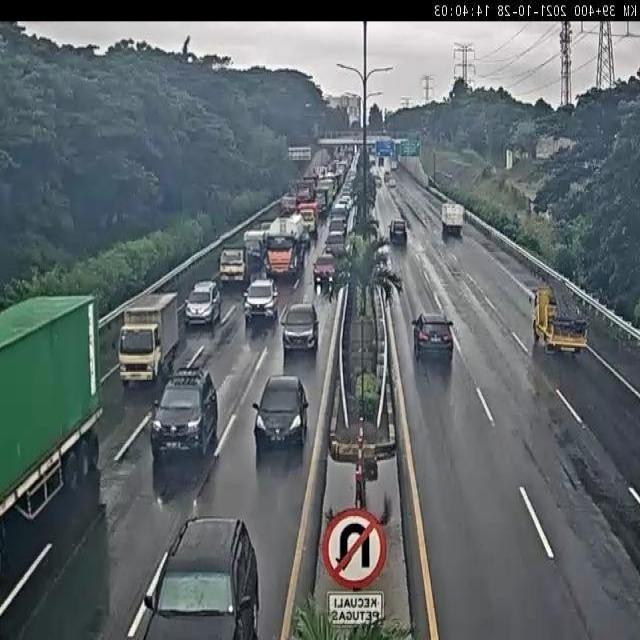Car: (150, 361, 219, 460), (252, 373, 310, 455), (416, 310, 456, 376), (242, 277, 280, 326), (389, 219, 407, 246)
Truck: (0, 294, 106, 596), (138, 515, 262, 638), (118, 292, 180, 386), (532, 283, 590, 354), (265, 215, 307, 283), (334, 276, 355, 381), (280, 300, 319, 354), (184, 281, 223, 328), (243, 229, 270, 278), (219, 248, 249, 289), (313, 253, 337, 291), (296, 201, 320, 238), (396, 135, 420, 172), (325, 219, 347, 257), (441, 201, 464, 237), (340, 202, 358, 247), (282, 212, 306, 245), (315, 177, 336, 214), (334, 268, 351, 303), (374, 437, 396, 464), (285, 139, 313, 159), (332, 197, 352, 224), (354, 470, 367, 510), (296, 184, 316, 209), (528, 200, 553, 220), (536, 140, 558, 160), (279, 194, 297, 217), (325, 171, 342, 195), (362, 457, 378, 481), (374, 244, 390, 267), (373, 259, 389, 281), (366, 218, 379, 244), (447, 157, 472, 170), (348, 150, 360, 176), (382, 278, 394, 301), (582, 158, 601, 171), (367, 194, 377, 218), (328, 160, 342, 177), (376, 141, 393, 155), (338, 193, 351, 211), (258, 221, 272, 237), (376, 234, 390, 250), (394, 139, 407, 155), (336, 160, 348, 177), (437, 170, 454, 182), (420, 126, 431, 144), (343, 146, 355, 161), (308, 173, 319, 189), (407, 132, 421, 143), (530, 288, 538, 307), (349, 116, 360, 129), (355, 104, 362, 124), (528, 198, 536, 215), (316, 165, 326, 178), (367, 143, 376, 157), (506, 149, 512, 170), (324, 246, 335, 257), (354, 143, 366, 153), (427, 174, 437, 186), (312, 122, 319, 139), (374, 176, 382, 188), (386, 226, 392, 242), (369, 155, 376, 168), (384, 170, 391, 183), (411, 318, 420, 328), (404, 219, 411, 231), (391, 160, 398, 171), (393, 138, 402, 146), (528, 292, 534, 304), (389, 178, 396, 188), (378, 156, 384, 167)
